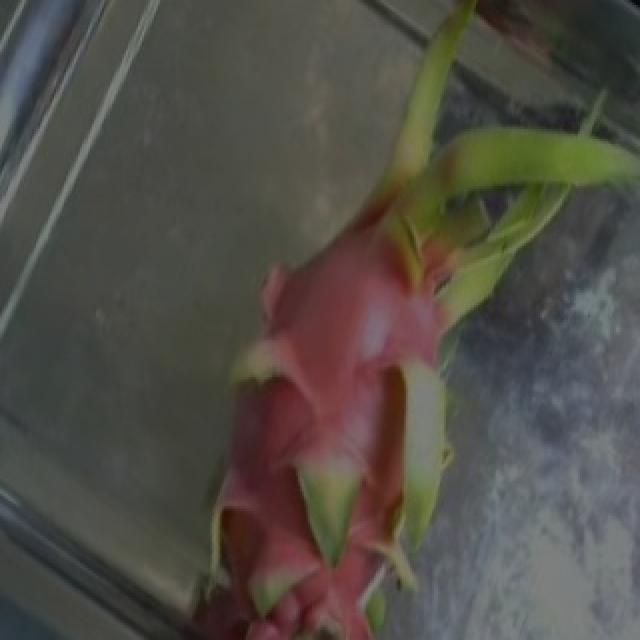fruit: (224, 0, 638, 375), (82, 221, 428, 637)
